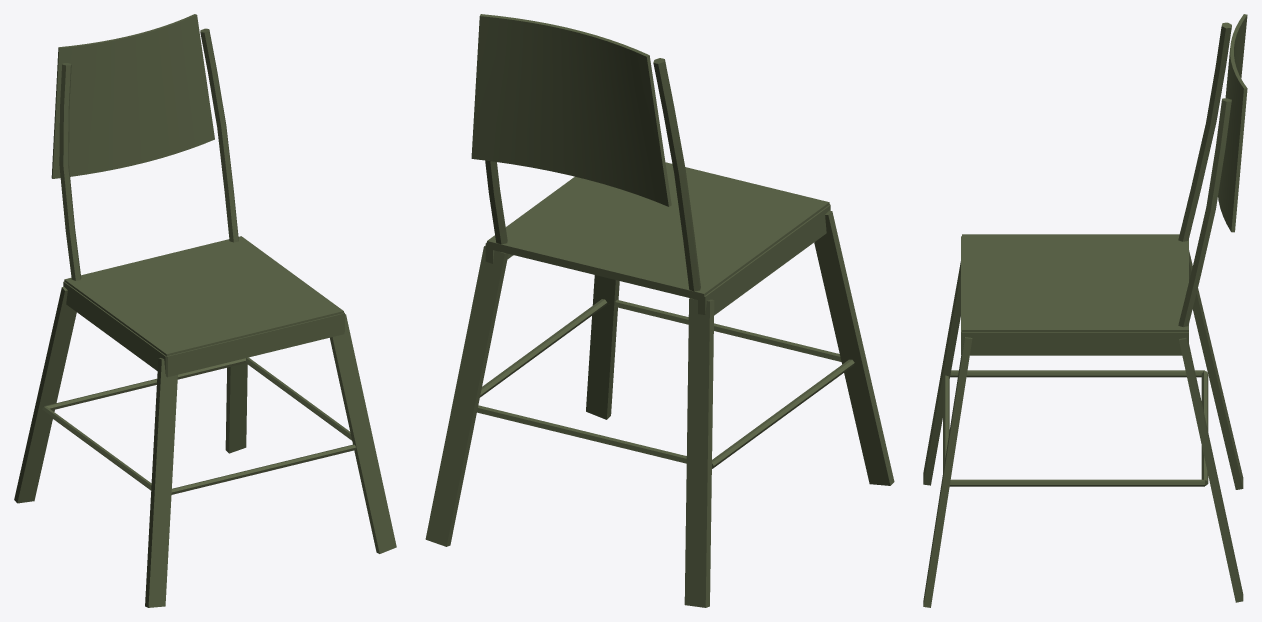
Rendered from metal_olive.glb.
3 renders of one model, left to right at view 1: azimuth 30°, elevation 25°; view 2: azimuth 150°, elevation 25°; view 3: azimuth 270°, elevation 25°, orthographic. The views are drawn at different scales.
Visible parts, largest first — view 1: metal_olive; view 2: metal_olive; view 3: metal_olive.
Boxes of the visible parts, x1,y1,x2,y2 form: metal_olive: [14, 14, 396, 607]; metal_olive: [425, 14, 894, 607]; metal_olive: [923, 14, 1247, 607].
Bounding box in the file's own units: 0.5049 × 0.8616 × 0.5141.
